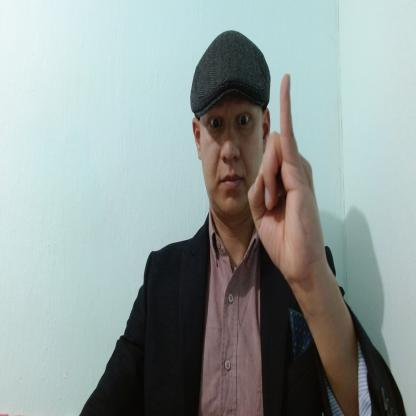I: (246, 72, 324, 286)
